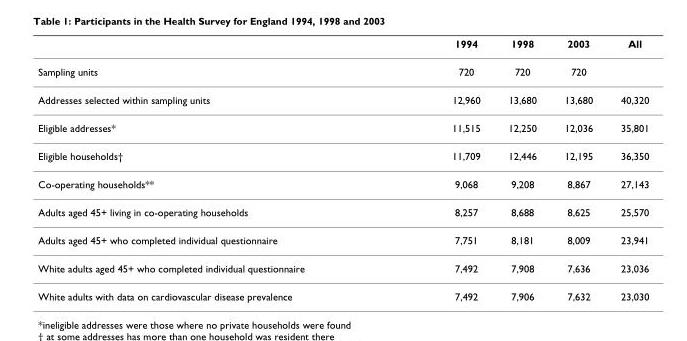table: (37, 37, 648, 301)
table column: (37, 37, 377, 301), (377, 37, 493, 301), (549, 37, 606, 301), (493, 37, 549, 301), (606, 37, 648, 301)
table column header: (37, 37, 648, 57)
table row: (37, 57, 648, 85), (37, 85, 648, 113), (37, 113, 648, 141), (37, 141, 648, 169), (37, 169, 648, 197), (37, 197, 648, 225), (37, 225, 648, 253), (37, 253, 648, 281), (37, 37, 648, 57), (37, 281, 648, 301)
